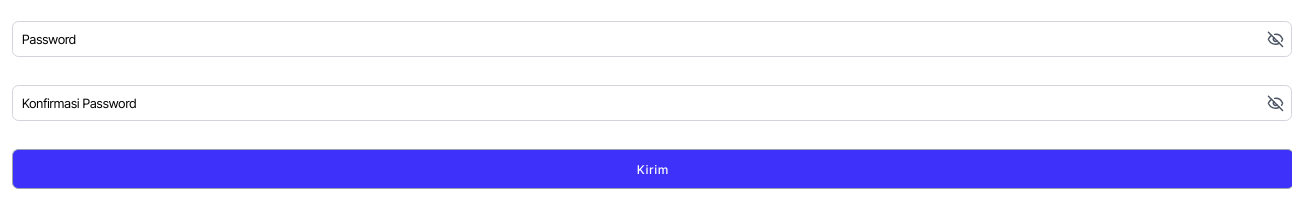
Test case: ResetPasswordView › should show error message when password is not provided
Click the button "Kirim": x=652, y=169 [12,149,1292,189]
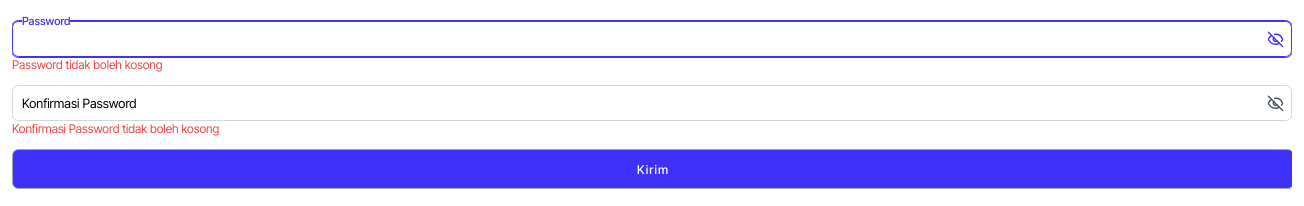
Now the text "Password tidak boleh kosong" is shown, box [12,57,162,72]
Now the text "Konfirmasi Password tidak boleh kosong" is shown, box [12,121,219,136]
